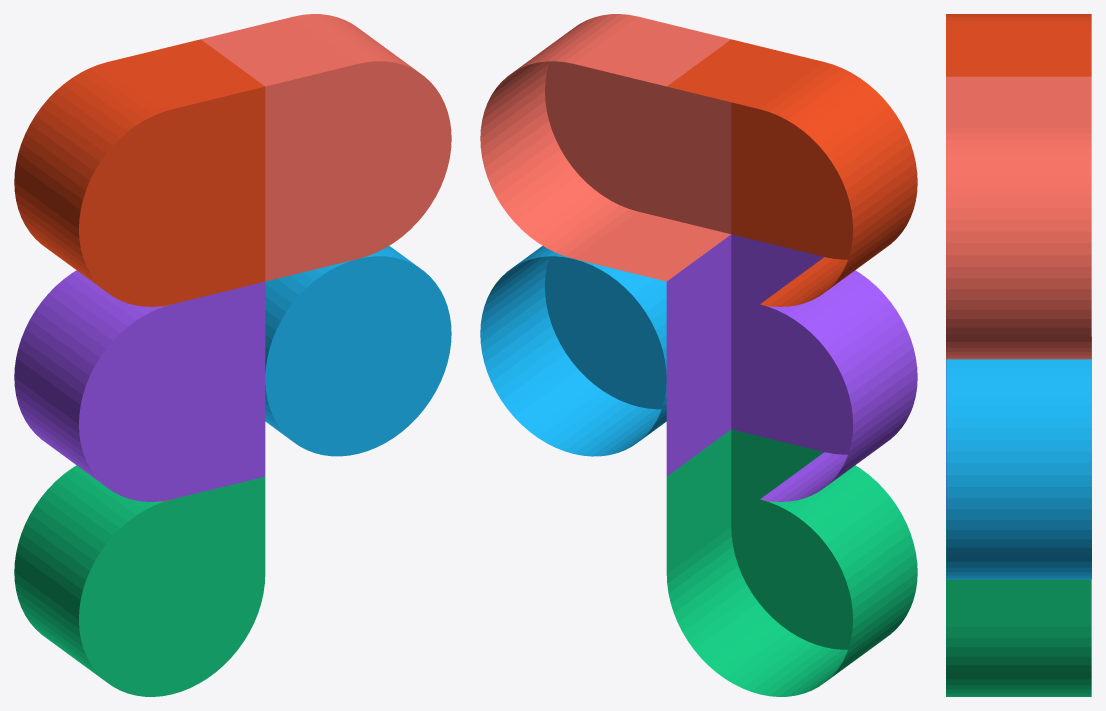
Rendered from IconFigma.gltf.
3 renders of one model, left to right at view 1: azimuth 30°, elevation 25°; view 2: azimuth 150°, elevation 25°; view 3: azimuth 270°, elevation 25°, orthographic. The views are drawn at different scales.
Visible parts, largest first — view 1: IconFigma; view 2: IconFigma; view 3: IconFigma.
Boxes of the visible parts, x1,y1,x2,y2 form: IconFigma: (14, 14, 451, 696); IconFigma: (480, 14, 917, 696); IconFigma: (946, 14, 1091, 696).
Bounding box in the file's own units: 1.33 × 2 × 0.4004.
